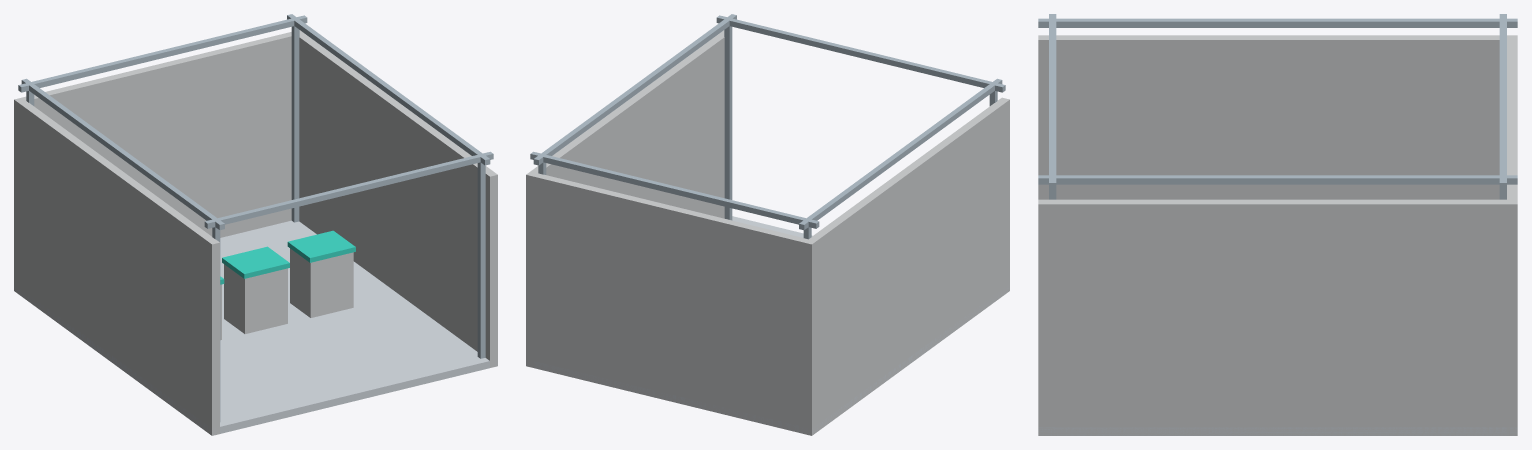
3 views of the same model, side by side, from view 1: azimuth 30°, elevation 25°; view 2: azimuth 150°, elevation 25°; view 3: azimuth 270°, elevation 25° (orthographic). The views are drawn at different scales.
Visible parts, largest first — view 1: Exhibition Booth Concept; view 2: Exhibition Booth Concept; view 3: Exhibition Booth Concept.
Part boxes in pixels (bbox=[...]): Exhibition Booth Concept: bbox=[14, 14, 497, 435]; Exhibition Booth Concept: bbox=[526, 14, 1009, 435]; Exhibition Booth Concept: bbox=[1038, 14, 1517, 435].
Bounding box in the file's own units: 5 × 3.49 × 6.
